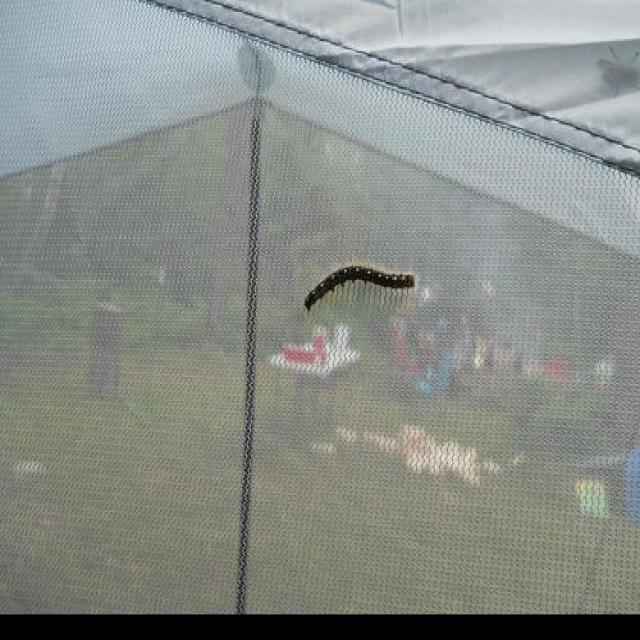armyworm: (301, 250, 427, 336)
